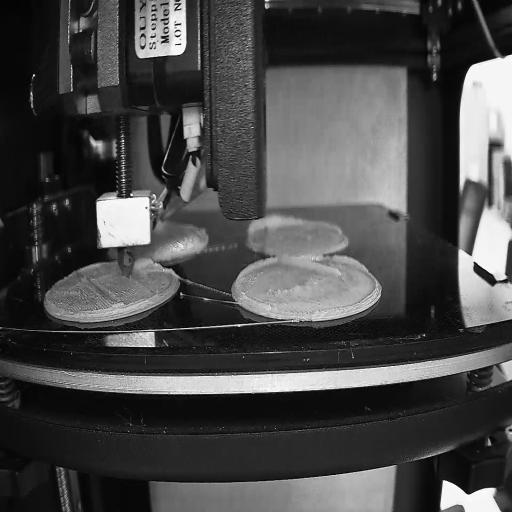over_extrusion: (234, 254, 280, 308), (282, 254, 368, 282), (252, 210, 303, 234), (133, 259, 162, 273)
